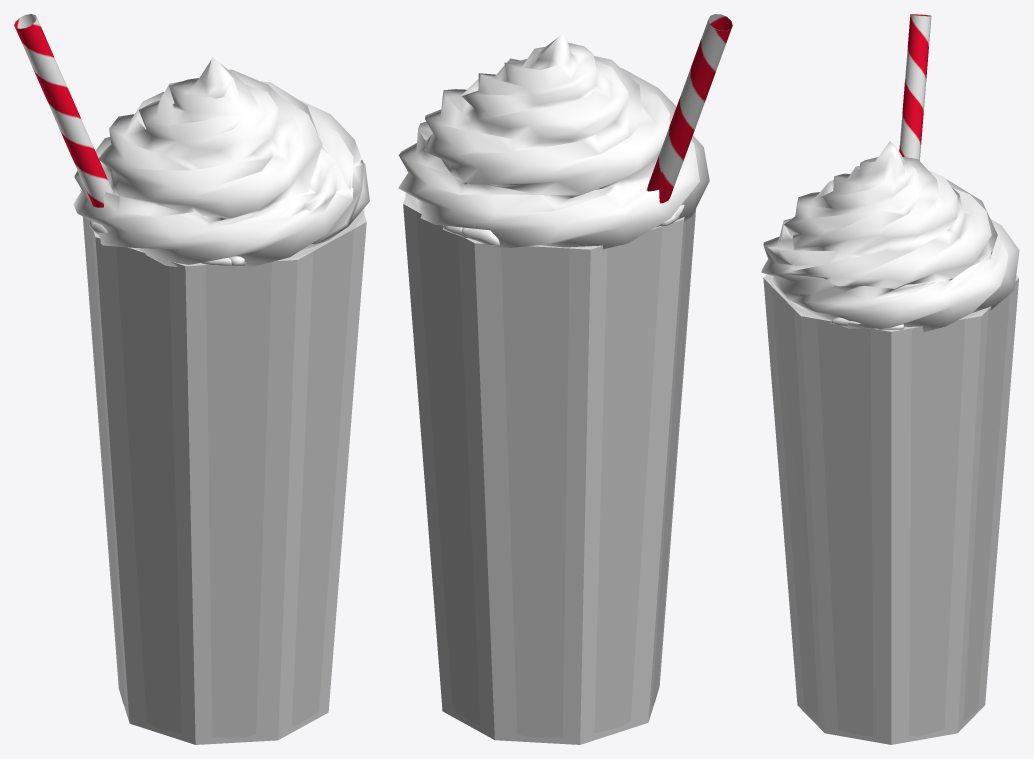
Rendered from CupGlass.fbx.
3 renders of one model, left to right at view 1: azimuth 30°, elevation 25°; view 2: azimuth 150°, elevation 25°; view 3: azimuth 270°, elevation 25°, orthographic. The views are drawn at different scales.
Parts seen in each view (by area): view 1: Col, Cream, Straw; view 2: Col, Cream, Straw; view 3: Col, Cream, Straw.
Boxes of the visible parts, x1,y1,x2,y2 form: Col: [80, 189, 366, 744]; Cream: [73, 57, 369, 269]; Straw: [14, 14, 112, 207]; Col: [403, 193, 695, 744]; Cream: [398, 32, 709, 249]; Straw: [646, 14, 732, 203]; Col: [763, 274, 1018, 744]; Cream: [761, 141, 1019, 332]; Straw: [899, 14, 931, 160].
Bounding box in the file's own units: 0.1174 × 0.0947 × 0.2498.
